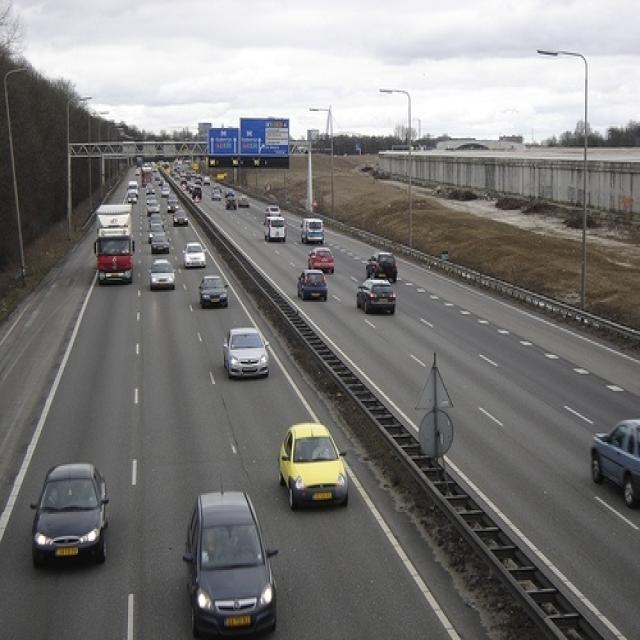Caminhao: (95, 202, 135, 284)
Carro Amarelo: (272, 417, 354, 514)
Carro Azul Escuro: (297, 267, 326, 304)
Carro Branco: (181, 242, 208, 268)
Carro Cinza: (363, 251, 400, 284)
Carro Prata: (220, 324, 273, 382), (147, 260, 180, 289)
Carro Preto: (177, 486, 280, 636), (33, 460, 111, 568), (354, 280, 396, 315), (196, 273, 228, 307), (150, 232, 172, 256), (171, 210, 190, 229)
Carro Vermelho: (308, 245, 338, 275)
Van Branca: (300, 216, 324, 245), (263, 215, 287, 242)
